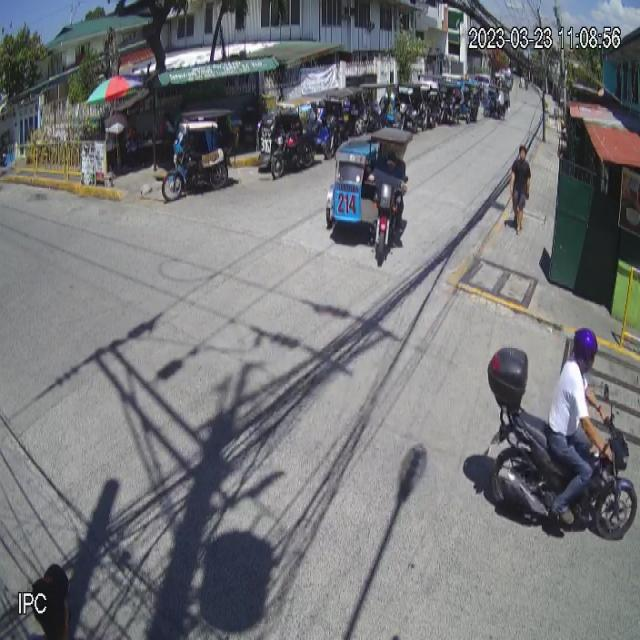Motorcycle: (482, 346, 637, 544)
Tricycle: (324, 125, 414, 268)
